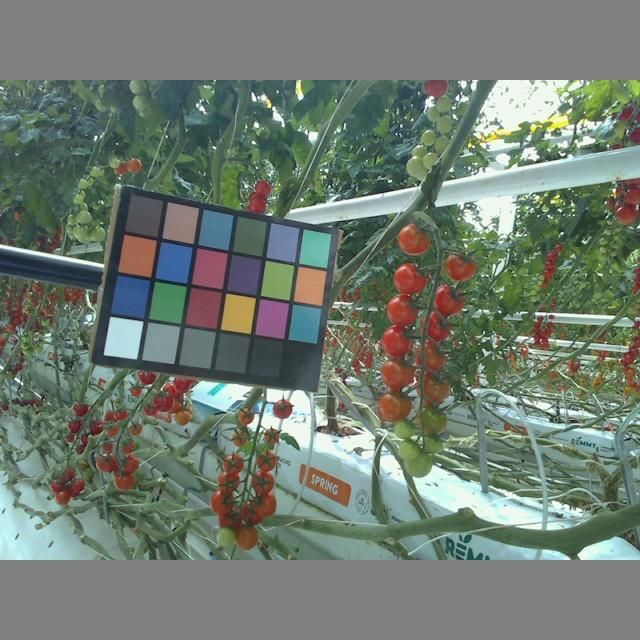green: (411, 405, 446, 437), (399, 447, 432, 477), (419, 431, 445, 454), (395, 440, 419, 461), (393, 418, 414, 440), (215, 526, 235, 547)
pink: (411, 373, 451, 405), (392, 262, 429, 295), (378, 392, 414, 423), (382, 358, 414, 391), (386, 295, 420, 326), (431, 284, 466, 314), (378, 327, 413, 356), (419, 315, 453, 343), (399, 223, 429, 253), (444, 253, 476, 281), (414, 342, 446, 370), (248, 491, 278, 517), (209, 489, 237, 516), (235, 521, 259, 550), (216, 471, 243, 495), (221, 452, 245, 478), (250, 471, 276, 495), (254, 449, 280, 472), (96, 452, 117, 474), (274, 399, 294, 420), (113, 471, 134, 490), (263, 425, 280, 446), (236, 408, 255, 426), (121, 456, 139, 475), (231, 430, 249, 448), (121, 438, 138, 454), (174, 410, 190, 426), (127, 422, 142, 437), (101, 438, 112, 454), (106, 424, 118, 437)
